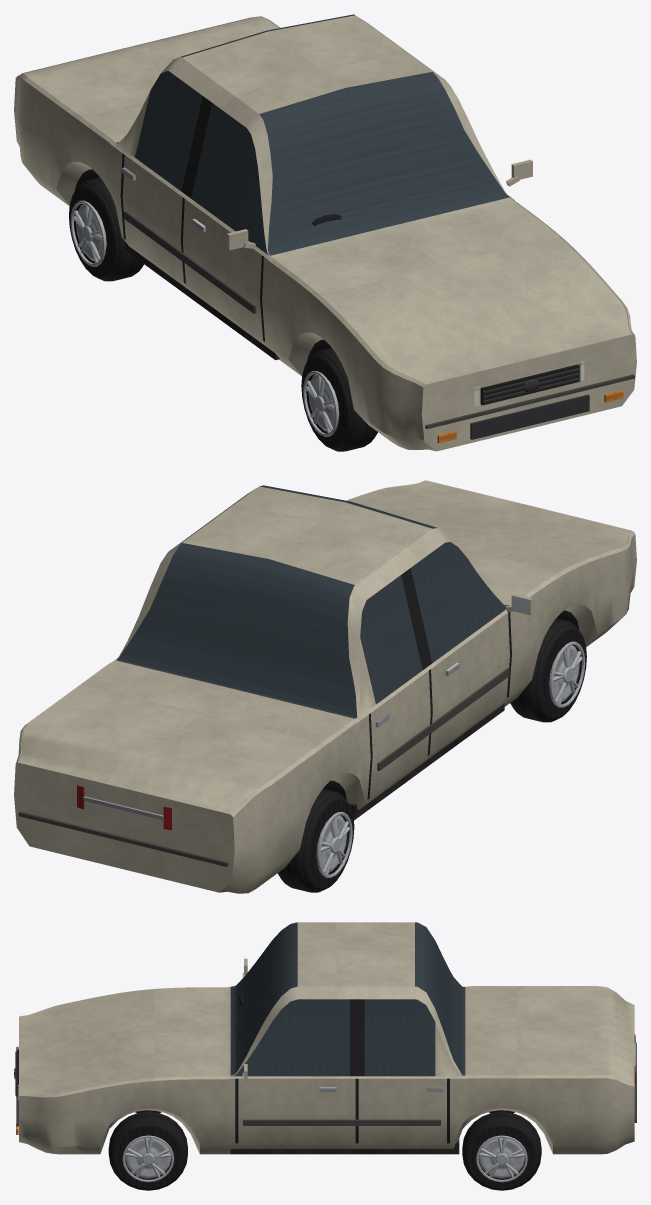
The model's file is ThaiSedanSoluna.fbx.
3 renders of one model, top to bottom at view 1: azimuth 30°, elevation 25°; view 2: azimuth 150°, elevation 25°; view 3: azimuth 270°, elevation 25°, orthographic. The views are drawn at different scales.
Parts seen in each view (by area): view 1: ThaiSedanSoluna, ThaiSedanSoluna_Glass, Wheel_FR, Wheel_RR; view 2: ThaiSedanSoluna, ThaiSedanSoluna_Glass, Wheel_FR, Wheel_RR; view 3: ThaiSedanSoluna, ThaiSedanSoluna_Glass, Wheel_RL, Wheel_FL.
Boxes of the visible parts, x1=… form: ThaiSedanSoluna: x1=14, y1=15, x2=636, y2=451; ThaiSedanSoluna_Glass: x1=116, y1=14, x2=510, y2=255; Wheel_FR: x1=301, y1=347, x2=377, y2=451; Wheel_RR: x1=69, y1=177, x2=143, y2=281; ThaiSedanSoluna: x1=14, y1=480, x2=636, y2=893; ThaiSedanSoluna_Glass: x1=116, y1=485, x2=509, y2=718; Wheel_FR: x1=510, y1=618, x2=586, y2=722; Wheel_RR: x1=277, y1=788, x2=354, y2=892; ThaiSedanSoluna: x1=14, y1=922, x2=636, y2=1154; ThaiSedanSoluna_Glass: x1=230, y1=922, x2=465, y2=1076; Wheel_RL: x1=462, y1=1111, x2=541, y2=1190; Wheel_FL: x1=108, y1=1111, x2=187, y2=1190.
Bounding box in the file's own units: 245 × 201 × 572.
Materials: 1 (1 with a texture image).
